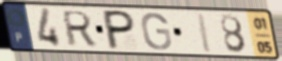4: (36, 6, 63, 51)
8: (219, 13, 248, 55)
G: (139, 11, 174, 52)
I: (194, 11, 214, 55)
P: (103, 8, 137, 51)
R: (62, 10, 98, 48)
